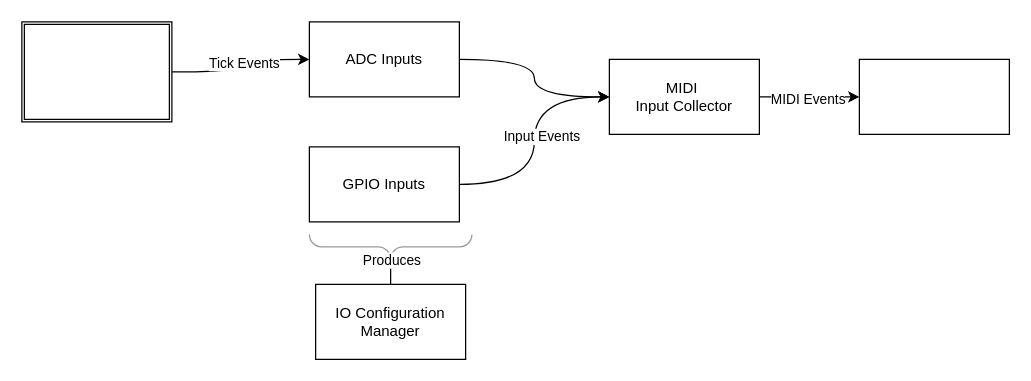
This 1031x381 diagram has some shape labels left out. Each missing label, with the centre of its shape:
"MIDI Device Output" goes at (933,96).
"Poll Timer" goes at (96,71).
